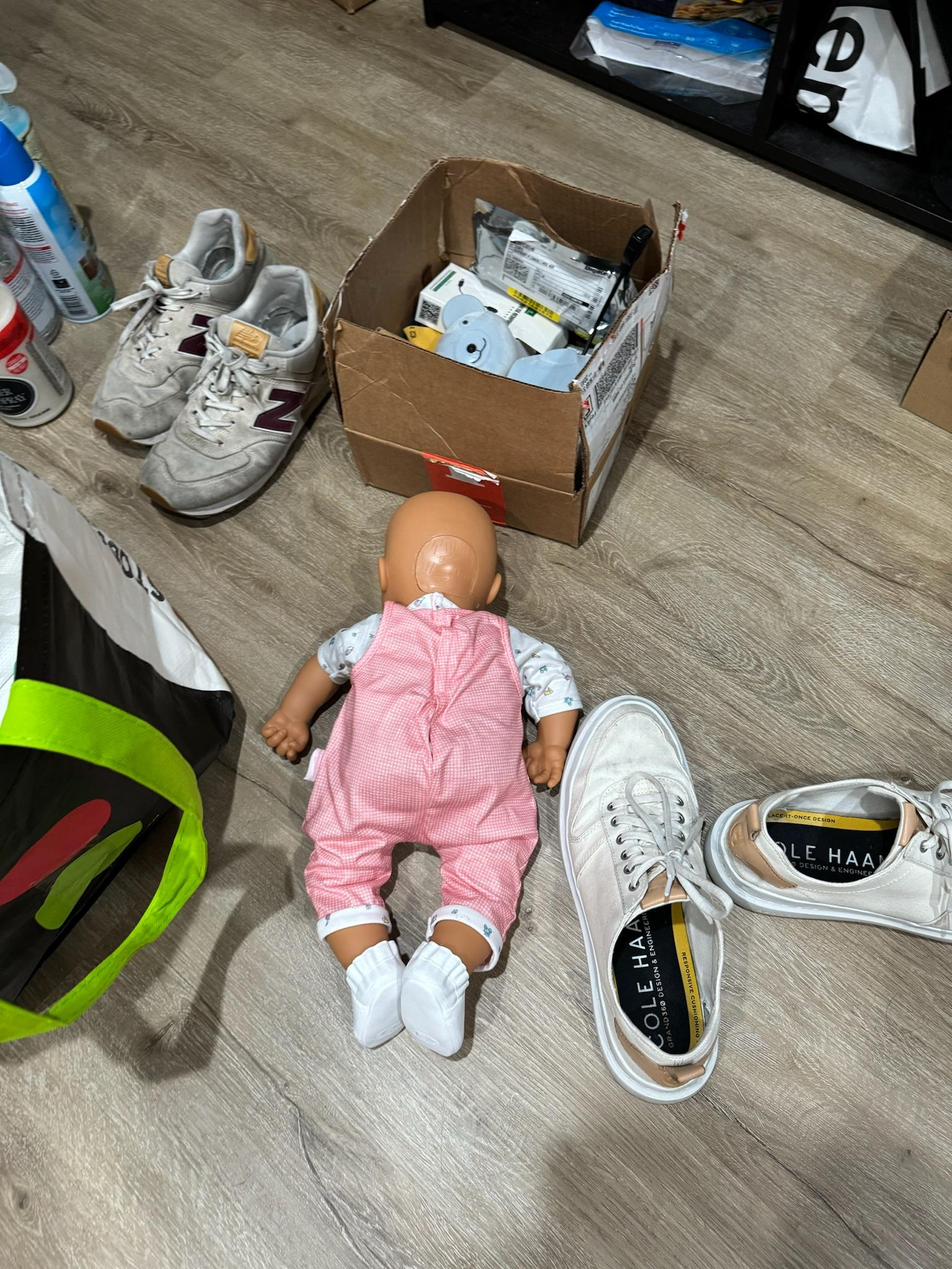baby: (277, 477, 574, 1086)
